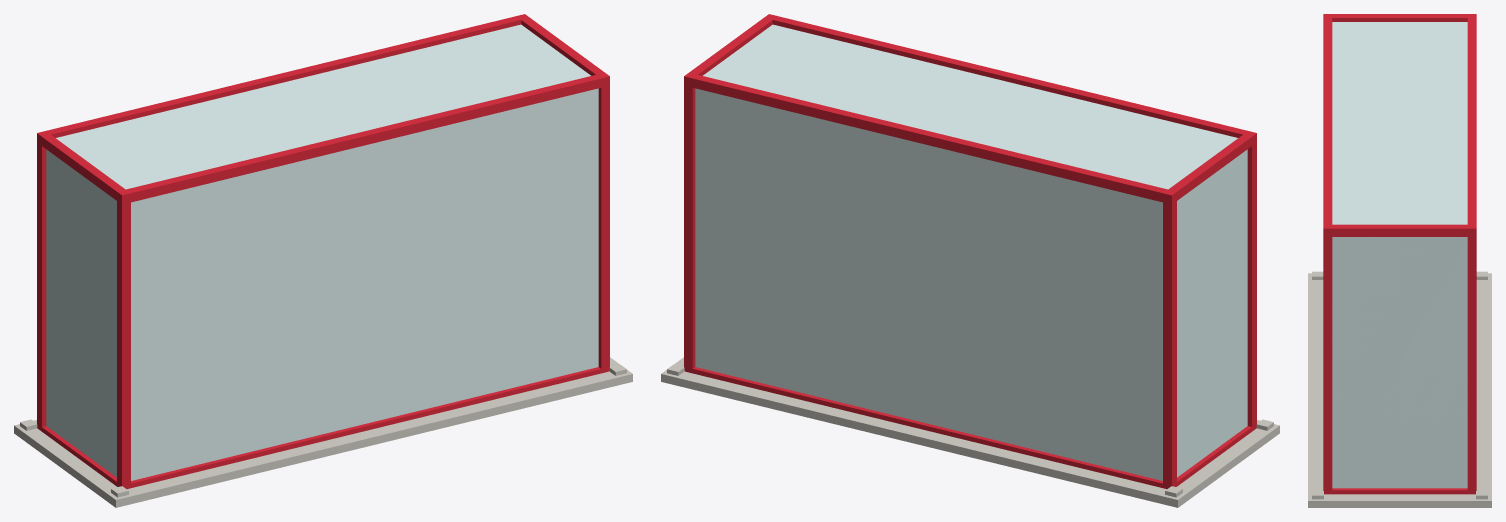
File: excavator-udirdlagatai.glb
3 renders of one model, left to right at view 1: azimuth 30°, elevation 25°; view 2: azimuth 150°, elevation 25°; view 3: azimuth 270°, elevation 25°, orthographic. The views are drawn at different scales.
Size of the model in its own units: 0.41 by 0.2295 by 0.14.
